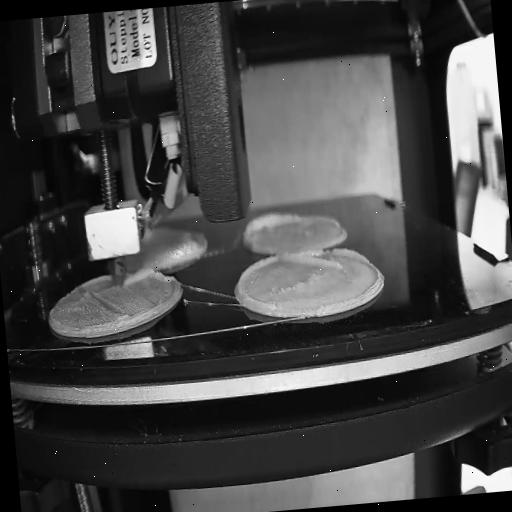over_extrusion: (282, 246, 370, 275), (242, 207, 300, 247), (234, 258, 280, 304), (126, 266, 156, 282)
